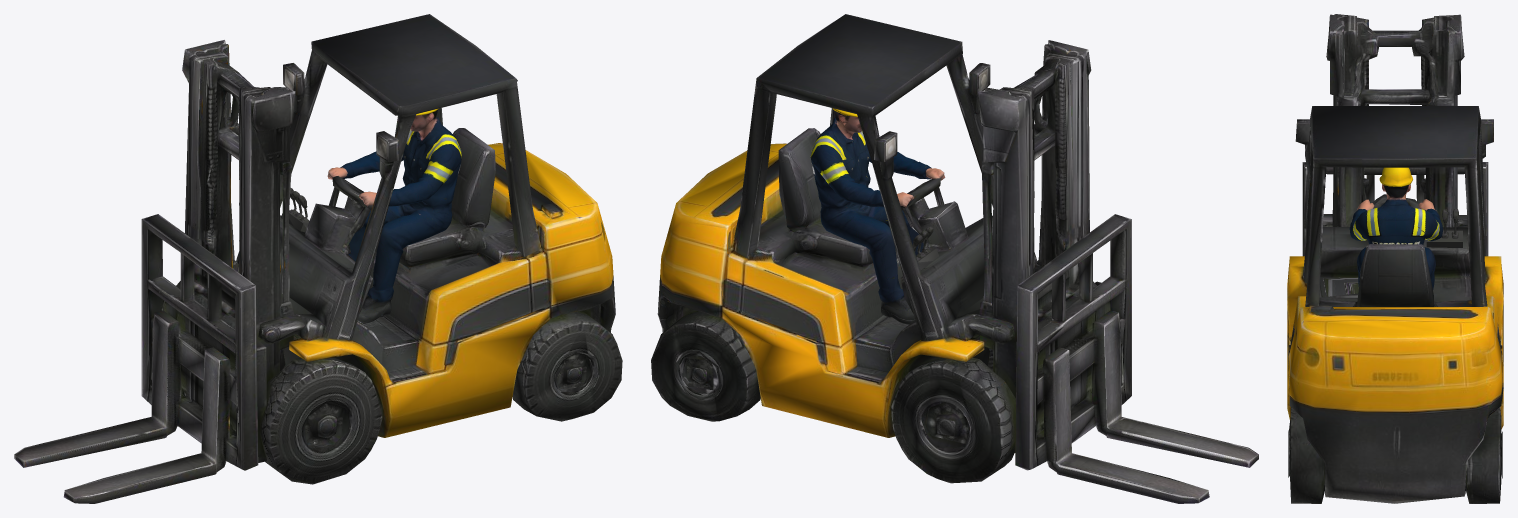
File: ForliftWithOperator2_optimized.glb
3 renders of one model, left to right at view 1: azimuth 30°, elevation 25°; view 2: azimuth 150°, elevation 25°; view 3: azimuth 270°, elevation 25°, orthographic. The views are drawn at different scales.
Visible parts, largest first — view 1: Forklift, OperatorInsideForklift; view 2: Forklift, OperatorInsideForklift; view 3: Forklift, OperatorInsideForklift, ControllerOFForklift.
Part boxes in pixels (x1=…): Forklift: x1=14, y1=14, x2=622, y2=503; OperatorInsideForklift: x1=327, y1=108, x2=461, y2=323; Forklift: x1=651, y1=14, x2=1258, y2=503; OperatorInsideForklift: x1=810, y1=108, x2=945, y2=324; Forklift: x1=1287, y1=14, x2=1503, y2=503; OperatorInsideForklift: x1=1349, y1=167, x2=1442, y2=289; ControllerOFForklift: x1=1426, y1=209, x2=1462, y2=247.
Bounding box in the file's own units: 1.91 × 1.3 × 0.7162.
Materials: 2 (2 with a texture image).
